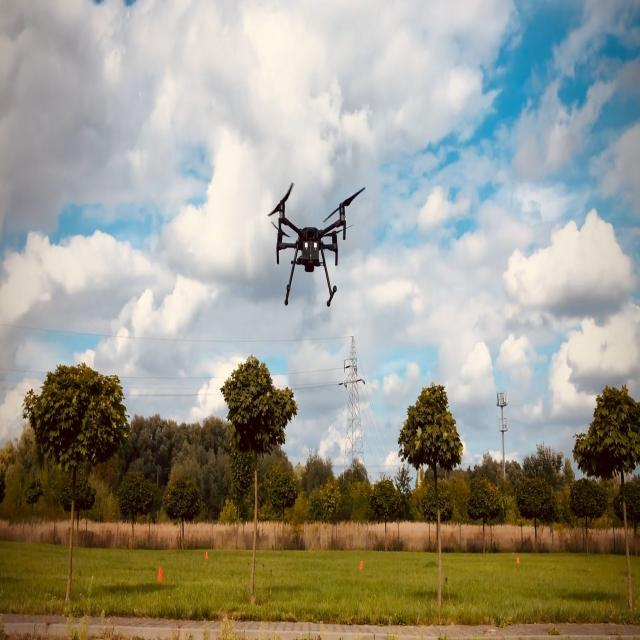drone: (266, 181, 366, 307)
